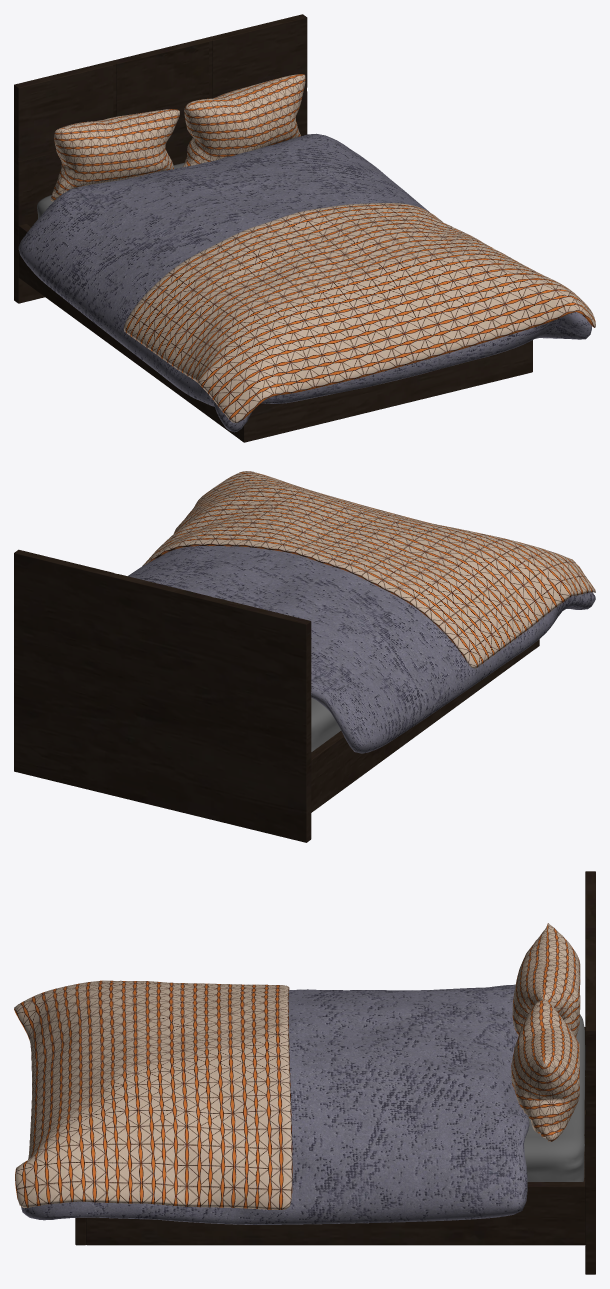
The picture shows the model from 3 angles, top to bottom: view 1: azimuth 30°, elevation 25°; view 2: azimuth 150°, elevation 25°; view 3: azimuth 270°, elevation 25°; orthographic projection. The views are drawn at different scales.
Parts seen in each view (by area): view 1: Object_146, Object_144, Object_140; view 2: Object_140, Object_146, Object_144, Object_142; view 3: Object_146, Object_144, Object_140, Object_142.
Boxes of the visible parts, x1=… form: Object_146: x1=51, y1=74, x2=595, y2=422; Object_144: x1=18, y1=133, x2=592, y2=432; Object_140: x1=14, y1=14, x2=532, y2=442; Object_140: x1=14, y1=549, x2=539, y2=842; Object_146: x1=142, y1=471, x2=595, y2=668; Object_144: x1=128, y1=546, x2=595, y2=753; Object_142: x1=311, y1=698, x2=340, y2=751; Object_146: x1=14, y1=923, x2=580, y2=1209; Object_144: x1=21, y1=984, x2=529, y2=1224; Object_140: x1=75, y1=871, x2=595, y2=1274; Object_142: x1=524, y1=1014, x2=585, y2=1181.
Size of the model in its own units: 1.87 by 1.03 by 2.23.
Materials: 4 (3 with a texture image).
